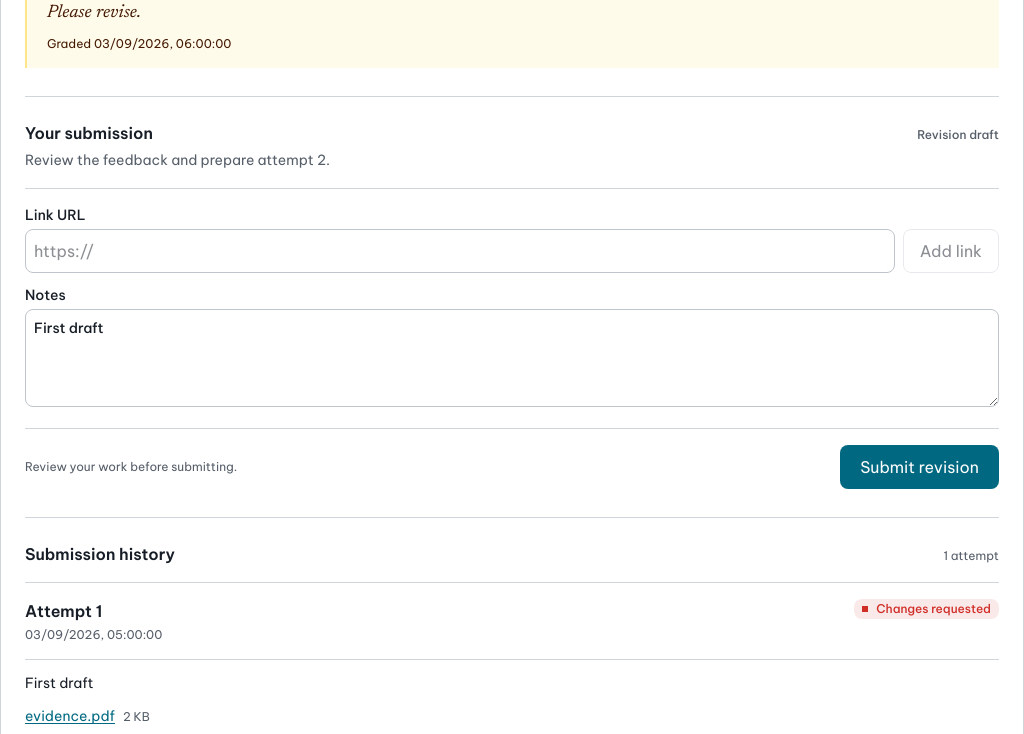
Test case: AssignmentRenderer › uses the server action, timestamp, files, score, and locale-first released feedback
(page scrolled)
Check: the link "evidence.pdf" is shown, box [25,707,115,725]
Check: the text "Please revise." is shown, box [47,4,141,22]
Replace the text in the text box labelled "Notes" with "Revised draft" at [512, 358], box [25,308,999,406]
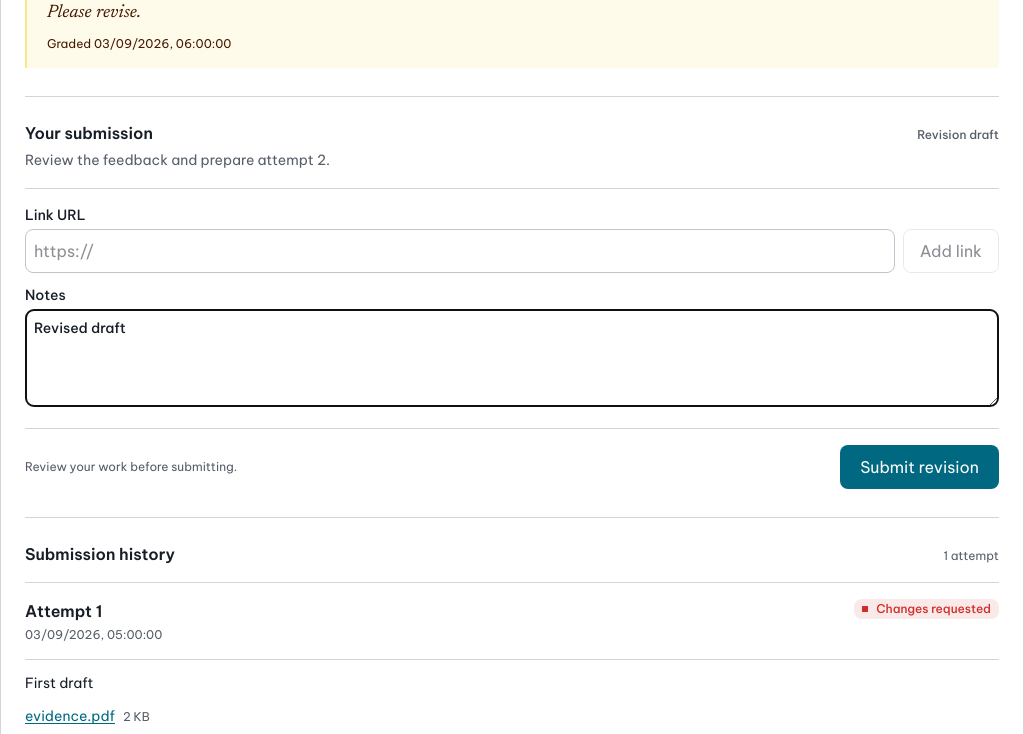
Click the button "Submit revision".
click(920, 466)  # box [840,444,999,488]
(page scrolled)
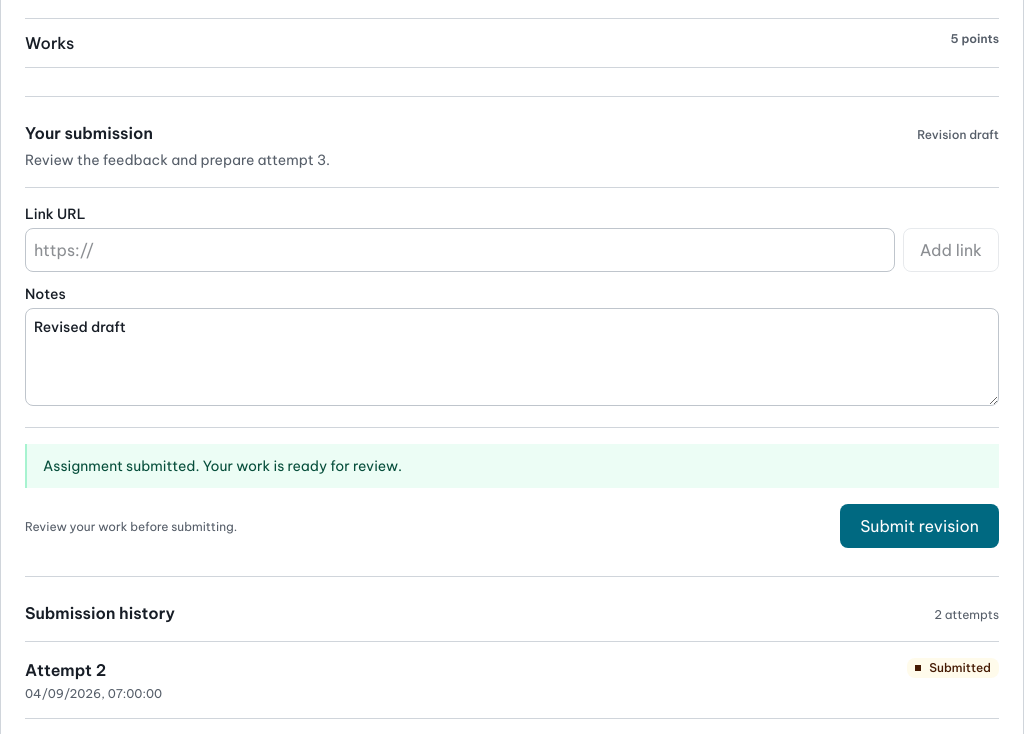
Check: the text "04/09/2026, 07:00:00" is shown, box [25,686,162,701]
